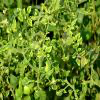Tomato leaf yellow virus: (17, 76, 36, 89), (79, 83, 90, 99), (14, 83, 23, 99), (50, 39, 62, 50), (35, 48, 47, 59), (18, 63, 26, 79), (45, 67, 55, 79), (11, 17, 17, 34), (55, 87, 65, 97), (44, 44, 53, 54), (76, 37, 83, 49), (27, 17, 34, 29), (17, 11, 24, 23), (8, 33, 14, 45), (45, 60, 51, 72), (70, 18, 78, 26), (74, 58, 81, 67), (26, 4, 32, 14), (52, 4, 59, 12), (40, 18, 49, 24), (50, 21, 57, 28), (75, 33, 81, 39), (46, 9, 51, 16)
